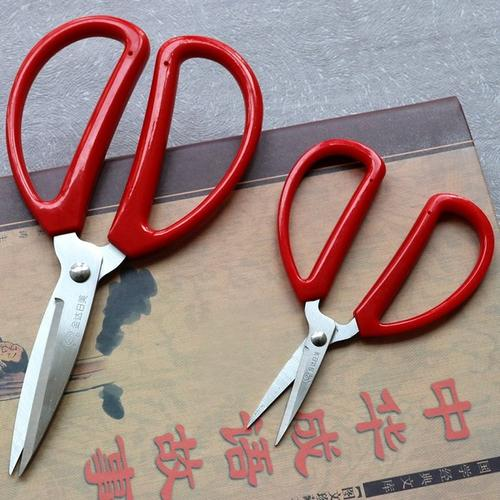scissor: (4, 15, 264, 480), (247, 137, 493, 465)
